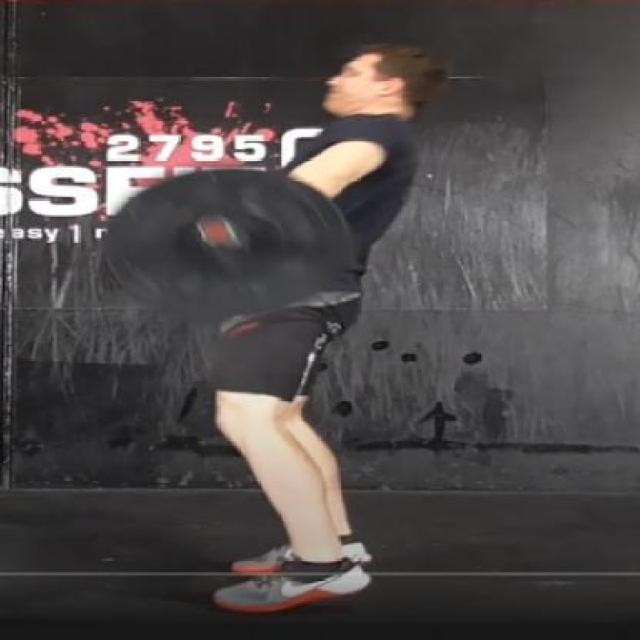barbell: (99, 162, 356, 329)
